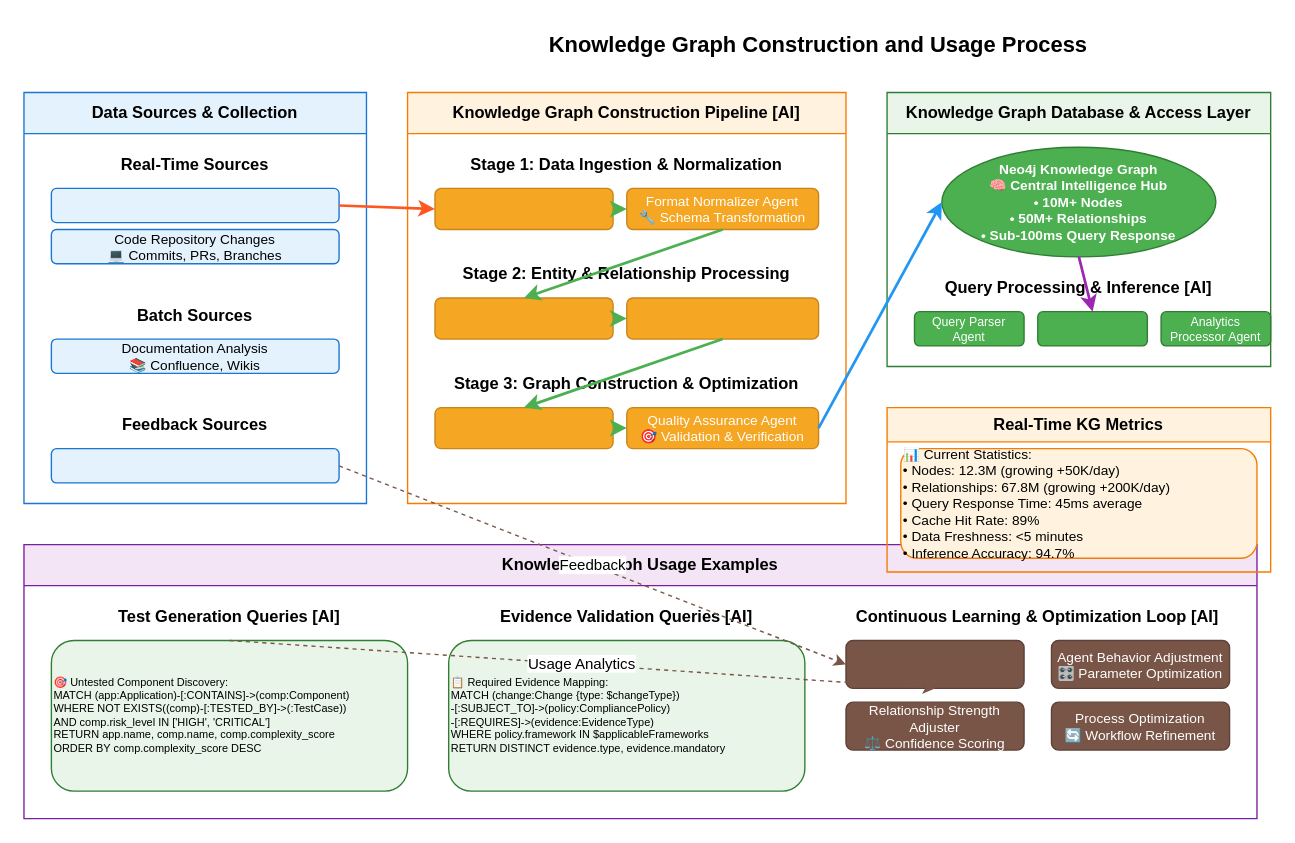
The diagram is 1295 pixels wide and 843 high, and some of its shapes have lost their labels. The centre of each missing label's shape, as x and y in pixels:
"CI/CD Pipeline Events 🔄 Build, Test, Deploy" goes at (x=194, y=205).
"Data Collection Agent 📡 Multi-Protocol Polling" goes at (x=523, y=208).
"Entity Extraction Agent 🎯 NLP & Pattern Recognition" goes at (x=523, y=318).
"Graph Builder Agent 🏗️ Structure Creation" goes at (x=523, y=427).
"Human Feedback Analyzer 📝 Sentiment & Content Analysis" goes at (x=934, y=663).
"Human Review Feedback 👥 Approvals, Rejections, Comments" goes at (x=194, y=465).
"Inference Engine Agent" goes at (x=1091, y=328).
"Relationship Mining Agent 🔗 Semantic Discovery" goes at (x=722, y=318).
